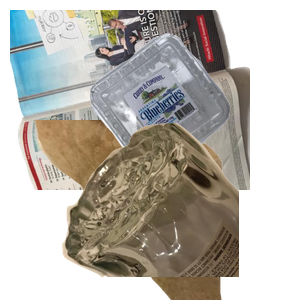glass: (60, 120, 300, 300)
paper: (10, 10, 250, 190)
plastic: (88, 31, 300, 198)
trash: (32, 120, 248, 300)
